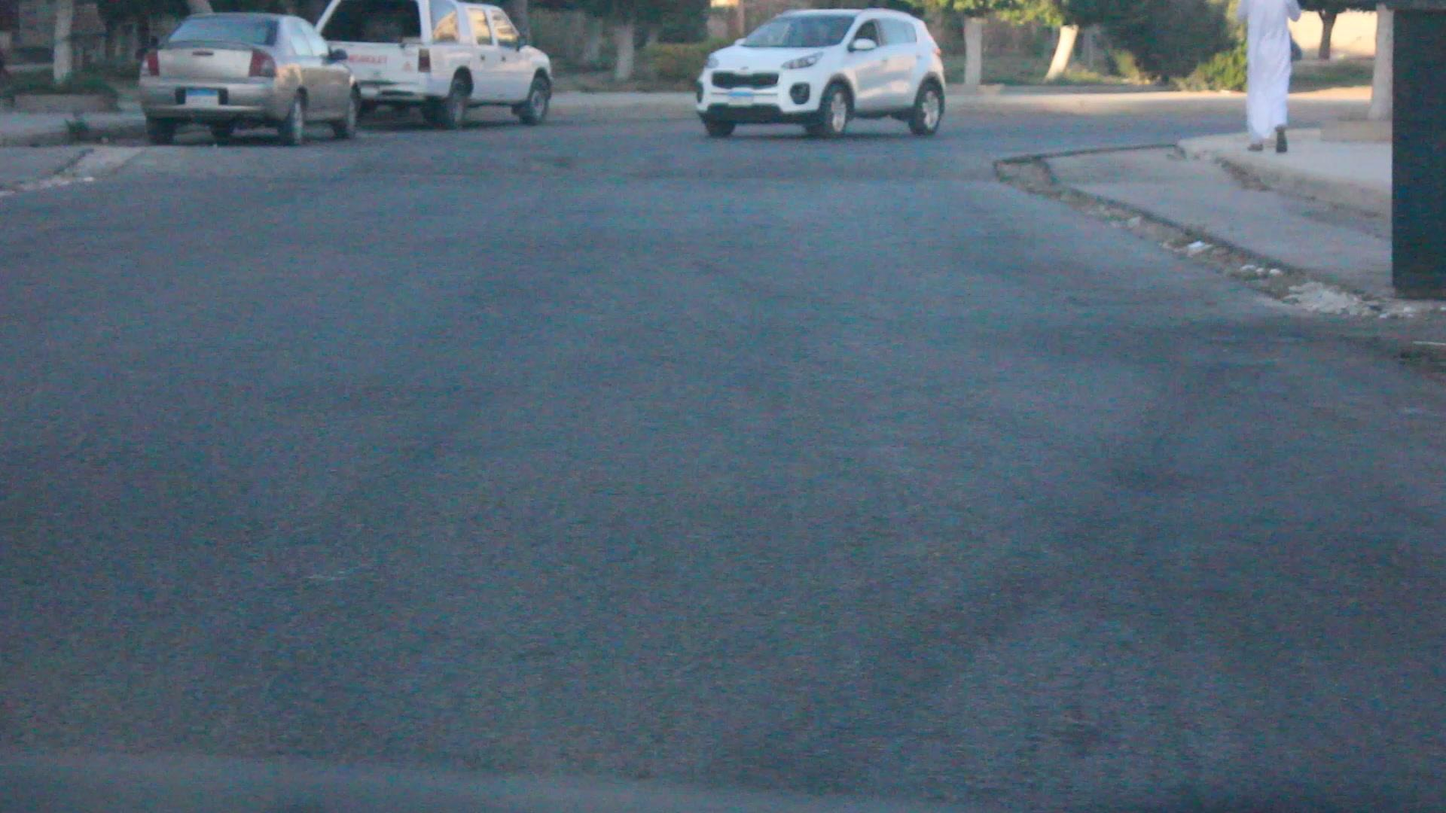Bump: (49, 134, 1028, 198)
